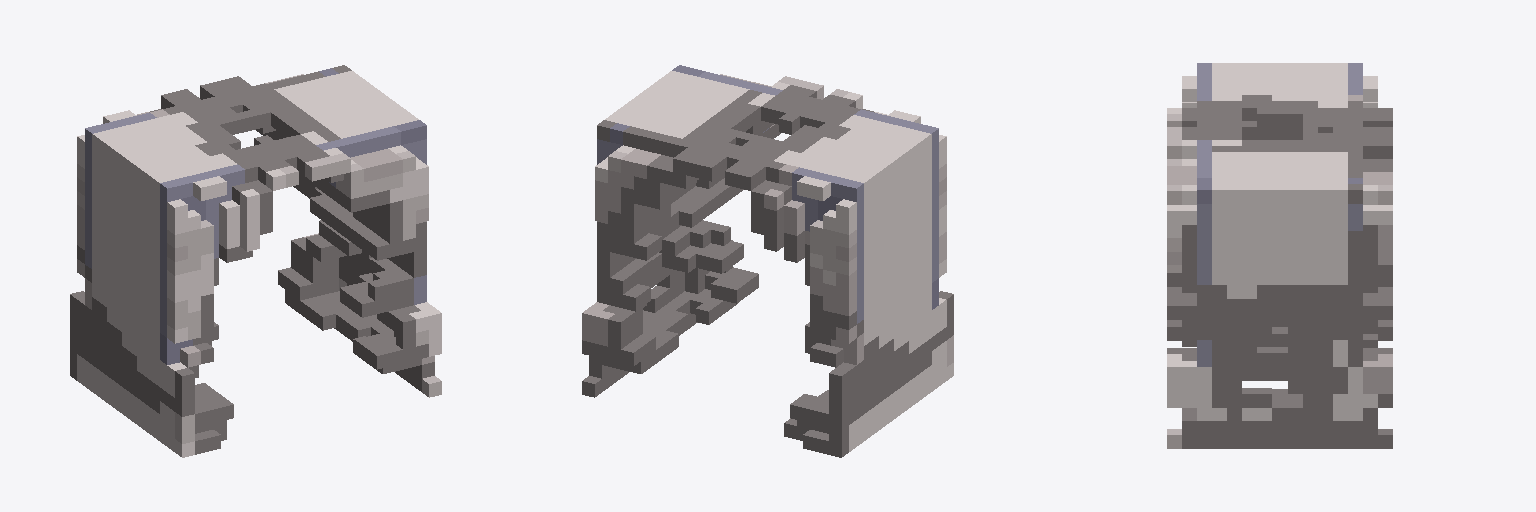
The picture shows the model from 3 angles: view 1: azimuth 30°, elevation 25°; view 2: azimuth 150°, elevation 25°; view 3: azimuth 270°, elevation 25°; orthographic projection.
Parts seen in each view (by area): view 1: object 1; view 2: object 1; view 3: object 1.
Boxes of the visible parts, x1=… form: object 1: x1=70, y1=65, x2=441, y2=457; object 1: x1=582, y1=65, x2=953, y2=457; object 1: x1=1167, y1=63, x2=1392, y2=448.
Bounding box in the file's own units: 2 × 1.9 × 1.5.
Materials: 1 (1 with a texture image).